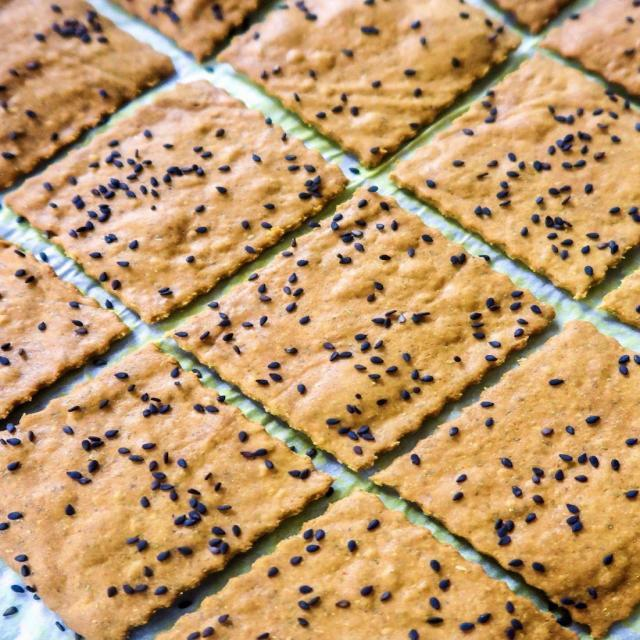Cracker: (168, 187, 544, 467), (12, 82, 351, 320), (381, 320, 639, 626), (405, 53, 640, 302)
